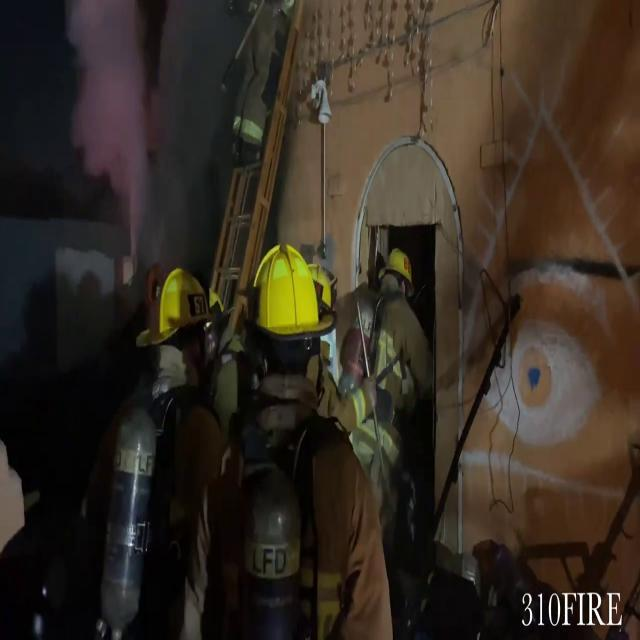Smoke: (62, 0, 246, 279)
